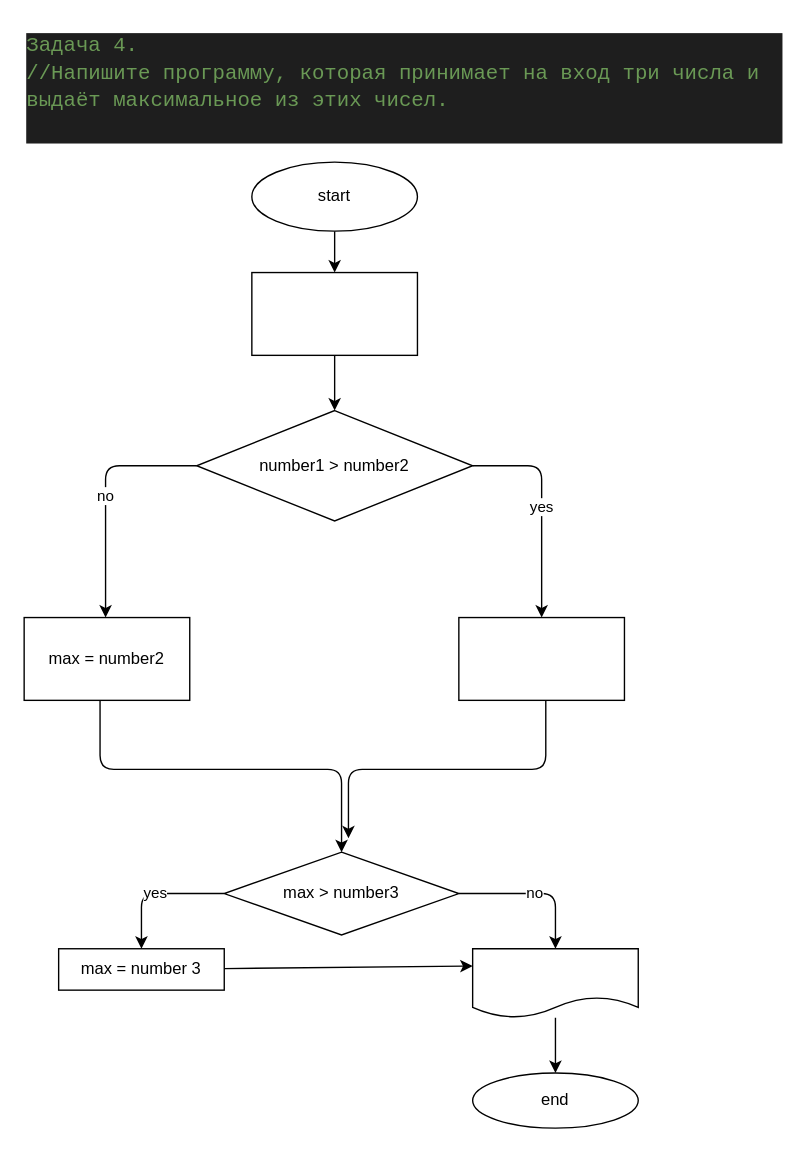
This 807x1152 diagram has some shape labels left out. Here are the shapes that lost their labels. From the top down, the centre of each, then its label:
the point at 333,313: number1 number2 number3 max = 0
the point at 540,658: max = number1
the point at 554,982: print max
